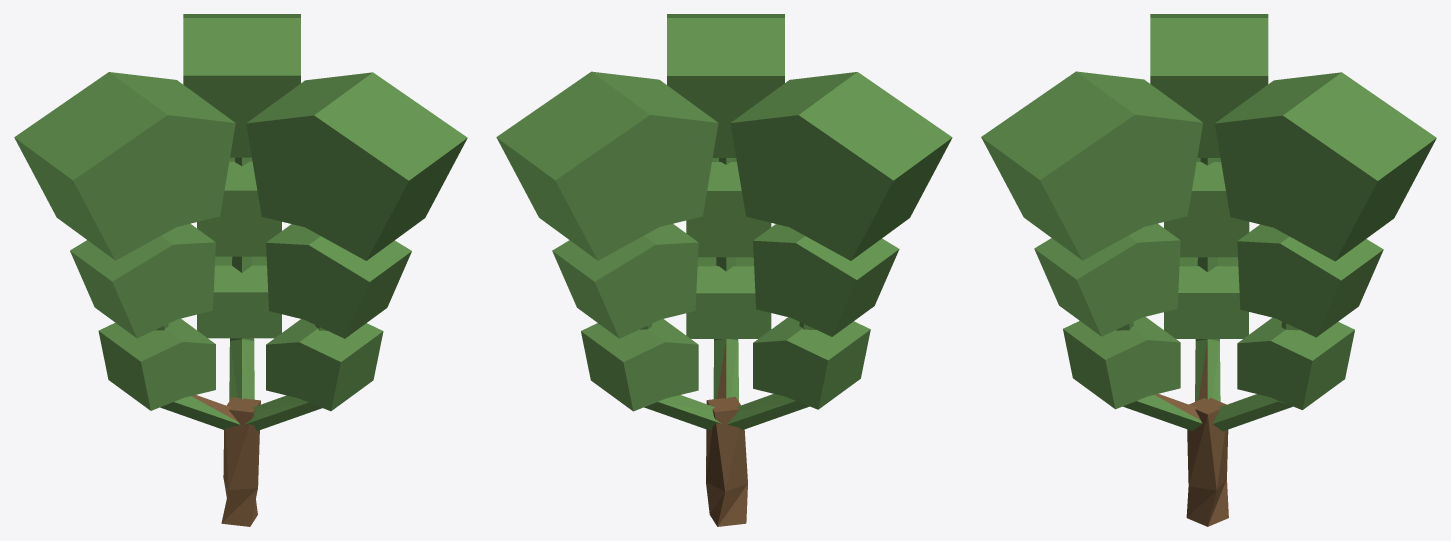
File: tree3d-004.glb
3 renders of one model, left to right at view 1: azimuth 30°, elevation 25°; view 2: azimuth 150°, elevation 25°; view 3: azimuth 270°, elevation 25°, orthographic.
Visible parts, largest first — view 1: tree3d-004; view 2: tree3d-004; view 3: tree3d-004.
Boxes of the visible parts, x1=… form: tree3d-004: x1=14, y1=14, x2=467, y2=526; tree3d-004: x1=496, y1=14, x2=952, y2=526; tree3d-004: x1=981, y1=14, x2=1436, y2=526.
Bounding box in the file's own units: 0.7949 × 1 × 0.9163.
